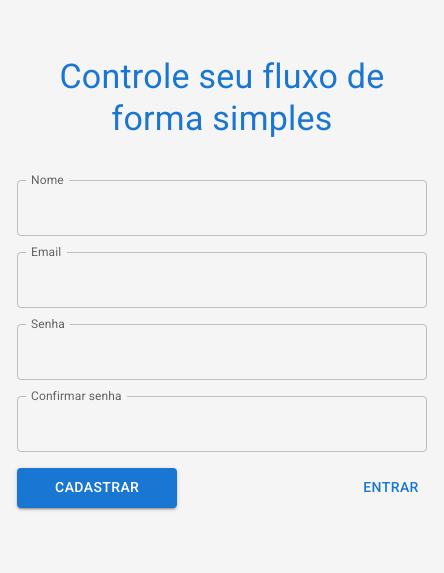
Scenario: Register › should render require register inputs
The image size is (444, 573).
Click the button "Cadastrar" at (97, 488), box x1=17 y1=468 x2=177 y2=508
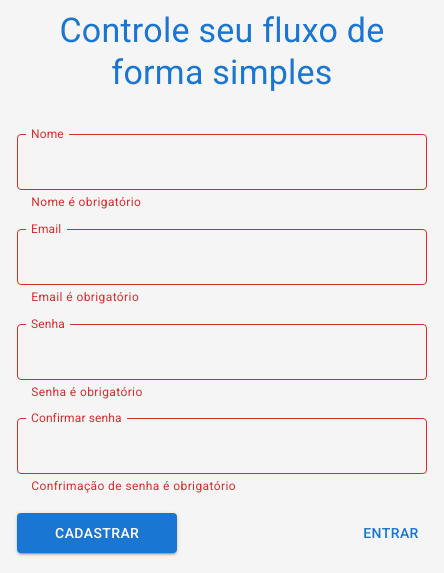
Now the text "Email é obrigatório" is shown, box x1=31 y1=290 x2=139 y2=304
Now the text "Nome é obrigatório" is shown, box x1=31 y1=195 x2=141 y2=209
Now the text "Senha é obrigatório" is shown, box x1=31 y1=385 x2=143 y2=399
